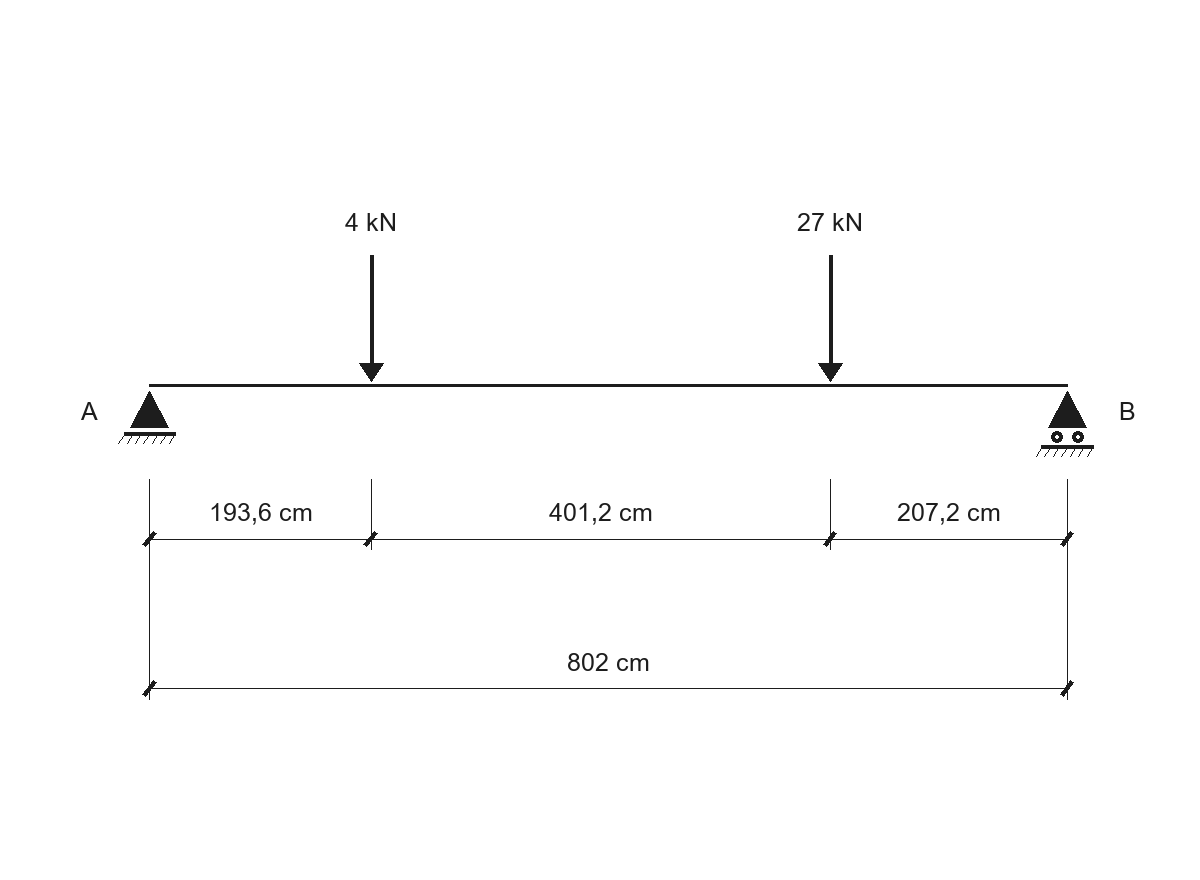pin_support: (118, 391, 176, 444)
point_load: (359, 255, 384, 382), (818, 255, 843, 382)
roller_support: (1036, 391, 1094, 457)
